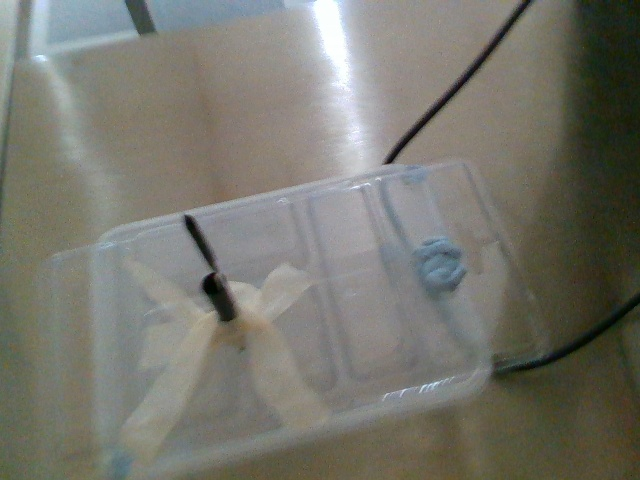test_strip: (178, 212, 225, 290)
